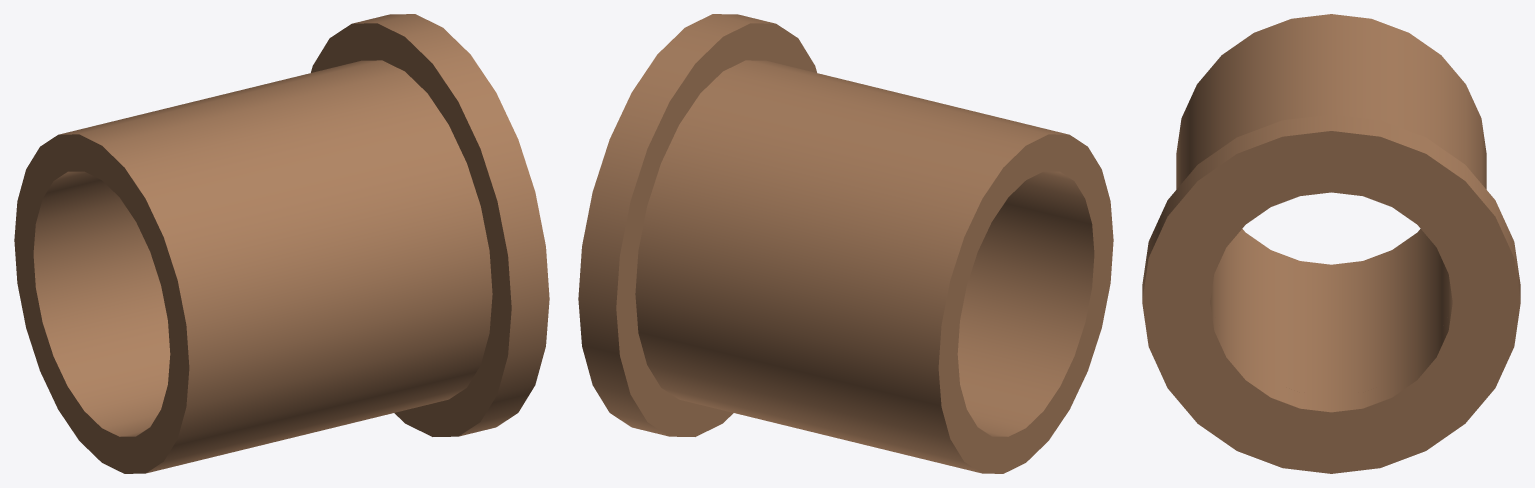
The model's file is HID-CNX-005.glb.
3 views of the same model, side by side, from view 1: azimuth 30°, elevation 25°; view 2: azimuth 150°, elevation 25°; view 3: azimuth 270°, elevation 25° (orthographic). The views are drawn at different scales.
Visible parts, largest first — view 1: HID-CNX-005_corpo, HID-CNX-005_aba; view 2: HID-CNX-005_corpo, HID-CNX-005_aba; view 3: HID-CNX-005_aba, HID-CNX-005_corpo.
Boxes of the visible parts, bbox=[...] form: HID-CNX-005_corpo: bbox=[14, 60, 492, 473]; HID-CNX-005_aba: bbox=[311, 14, 549, 436]; HID-CNX-005_corpo: bbox=[635, 60, 1113, 473]; HID-CNX-005_aba: bbox=[578, 14, 816, 436]; HID-CNX-005_aba: bbox=[1142, 114, 1520, 473]; HID-CNX-005_corpo: bbox=[1176, 14, 1486, 395].
Size of the model in its own units: 0.036 by 0.039 by 0.039.
